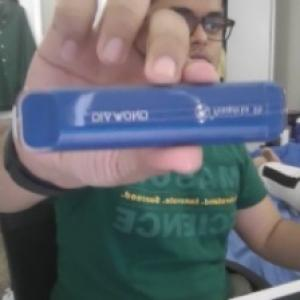Diamond-E-Ciggirate: (9, 76, 292, 157)
